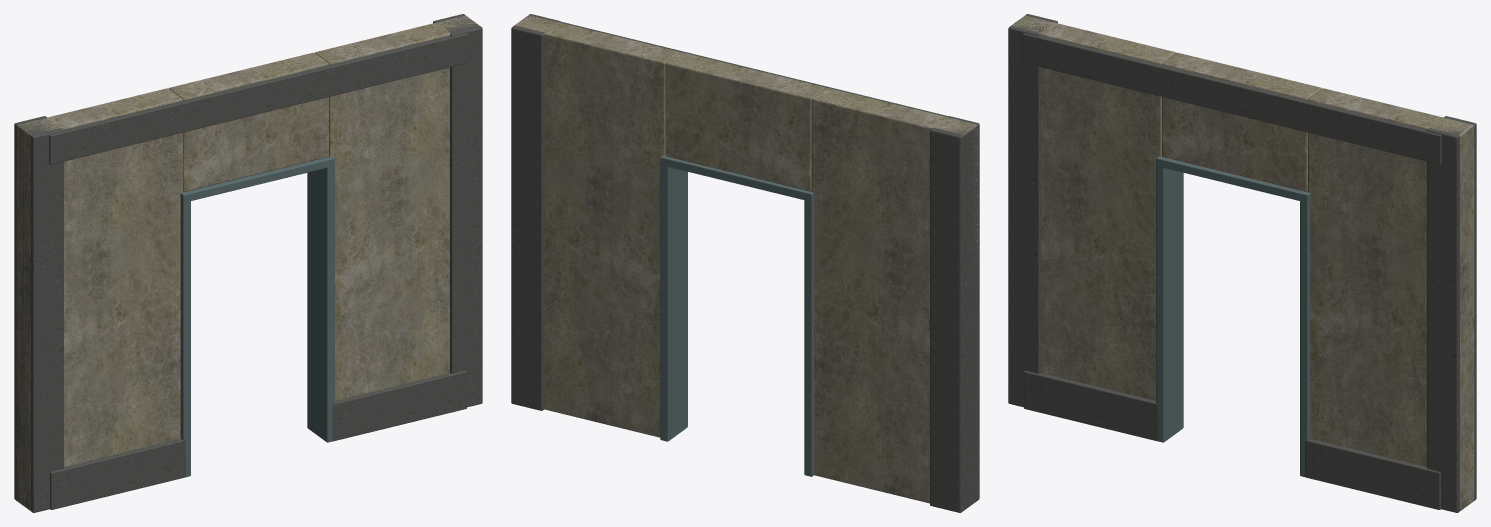
The model's file is wall_door_4m.glb.
3 views of the same model, side by side, from view 1: azimuth 30°, elevation 25°; view 2: azimuth 150°, elevation 25°; view 3: azimuth 330°, elevation 25° (orthographic).
Parts seen in each view (by area): view 1: Masonry door pier, Masonry door pier.001, Cast concrete edge pier.006, Upper concrete ring beam.002, Cast concrete edge pier.007, Door lintel, Steel door frame jamb.001, Foundation left, Foundation right, Steel door frame jamb, Steel door frame head; view 2: Masonry door pier.001, Masonry door pier, Cast concrete edge pier.006, Door lintel, Cast concrete edge pier.007, Steel door frame jamb.001, Steel door frame jamb, Steel door frame head, Upper concrete ring beam.002; view 3: Masonry door pier.001, Masonry door pier, Upper concrete ring beam.002, Cast concrete edge pier.007, Cast concrete edge pier.006, Door lintel, Steel door frame jamb, Foundation right, Foundation left, Steel door frame jamb.001, Steel door frame head.
Part boxes in pixels (x1,y1,x2,y2): Masonry door pier: [16, 88, 182, 510]; Masonry door pier.001: [315, 15, 479, 400]; Cast concrete edge pier.006: [14, 116, 63, 512]; Upper concrete ring beam.002: [49, 33, 468, 164]; Cast concrete edge pier.007: [433, 14, 482, 407]; Door lintel: [168, 52, 328, 191]; Steel door frame jamb.001: [307, 159, 334, 442]; Foundation left: [50, 438, 185, 509]; Foundation right: [332, 370, 466, 441]; Steel door frame jamb: [180, 195, 190, 476]; Steel door frame head: [180, 156, 334, 201]; Masonry door pier.001: [514, 15, 679, 437]; Masonry door pier: [811, 88, 977, 510]; Cast concrete edge pier.006: [930, 116, 979, 512]; Door lintel: [665, 52, 825, 191]; Cast concrete edge pier.007: [511, 14, 560, 410]; Steel door frame jamb.001: [660, 158, 687, 441]; Steel door frame jamb: [804, 194, 813, 476]; Steel door frame head: [660, 156, 813, 201]; Upper concrete ring beam.002: [561, 21, 947, 116]; Masonry door pier.001: [1308, 88, 1474, 510]; Masonry door pier: [1012, 15, 1175, 400]; Upper concrete ring beam.002: [1022, 33, 1441, 164]; Cast concrete edge pier.007: [1427, 116, 1476, 512]; Cast concrete edge pier.006: [1008, 14, 1057, 407]; Door lintel: [1162, 52, 1322, 191]; Steel door frame jamb: [1156, 159, 1183, 442]; Foundation right: [1305, 438, 1440, 509]; Foundation left: [1024, 370, 1158, 441]; Steel door frame jamb.001: [1300, 195, 1310, 476]; Steel door frame head: [1156, 156, 1310, 200].
Bounding box in the file's own units: 4 × 3.2 × 0.3175.
3 materials, 2 textured.
